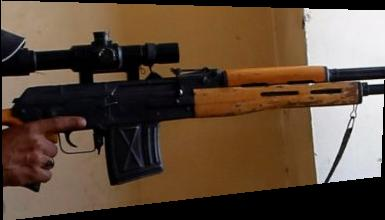gun: (1, 0, 385, 220)
